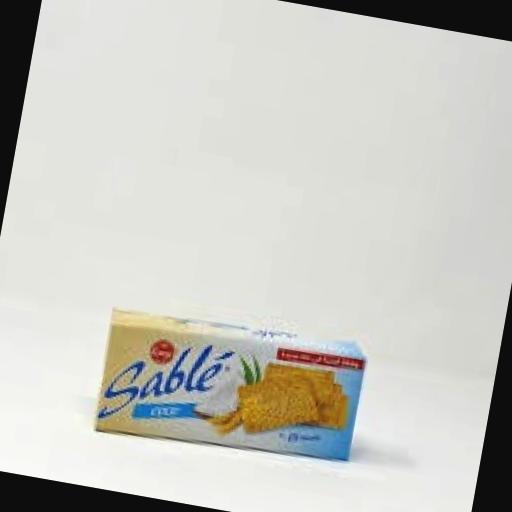sabl: (53, 239, 441, 512)
